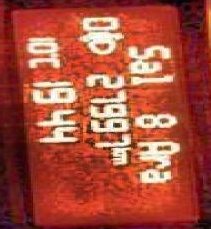0: (77, 15, 117, 30), (20, 40, 62, 51)
1: (24, 79, 73, 85), (22, 34, 60, 41)
2: (82, 71, 124, 89)
4: (35, 124, 75, 143), (35, 108, 75, 124)
7: (88, 131, 128, 146), (86, 87, 124, 100)
8: (130, 111, 177, 129)
9: (24, 86, 73, 104), (26, 87, 73, 103), (86, 117, 126, 133), (84, 101, 126, 116)
X: (122, 43, 193, 59), (133, 139, 179, 155), (126, 72, 177, 85), (122, 59, 160, 73), (133, 154, 171, 168), (133, 169, 171, 183), (20, 58, 62, 69), (104, 146, 133, 154), (106, 154, 126, 165)
